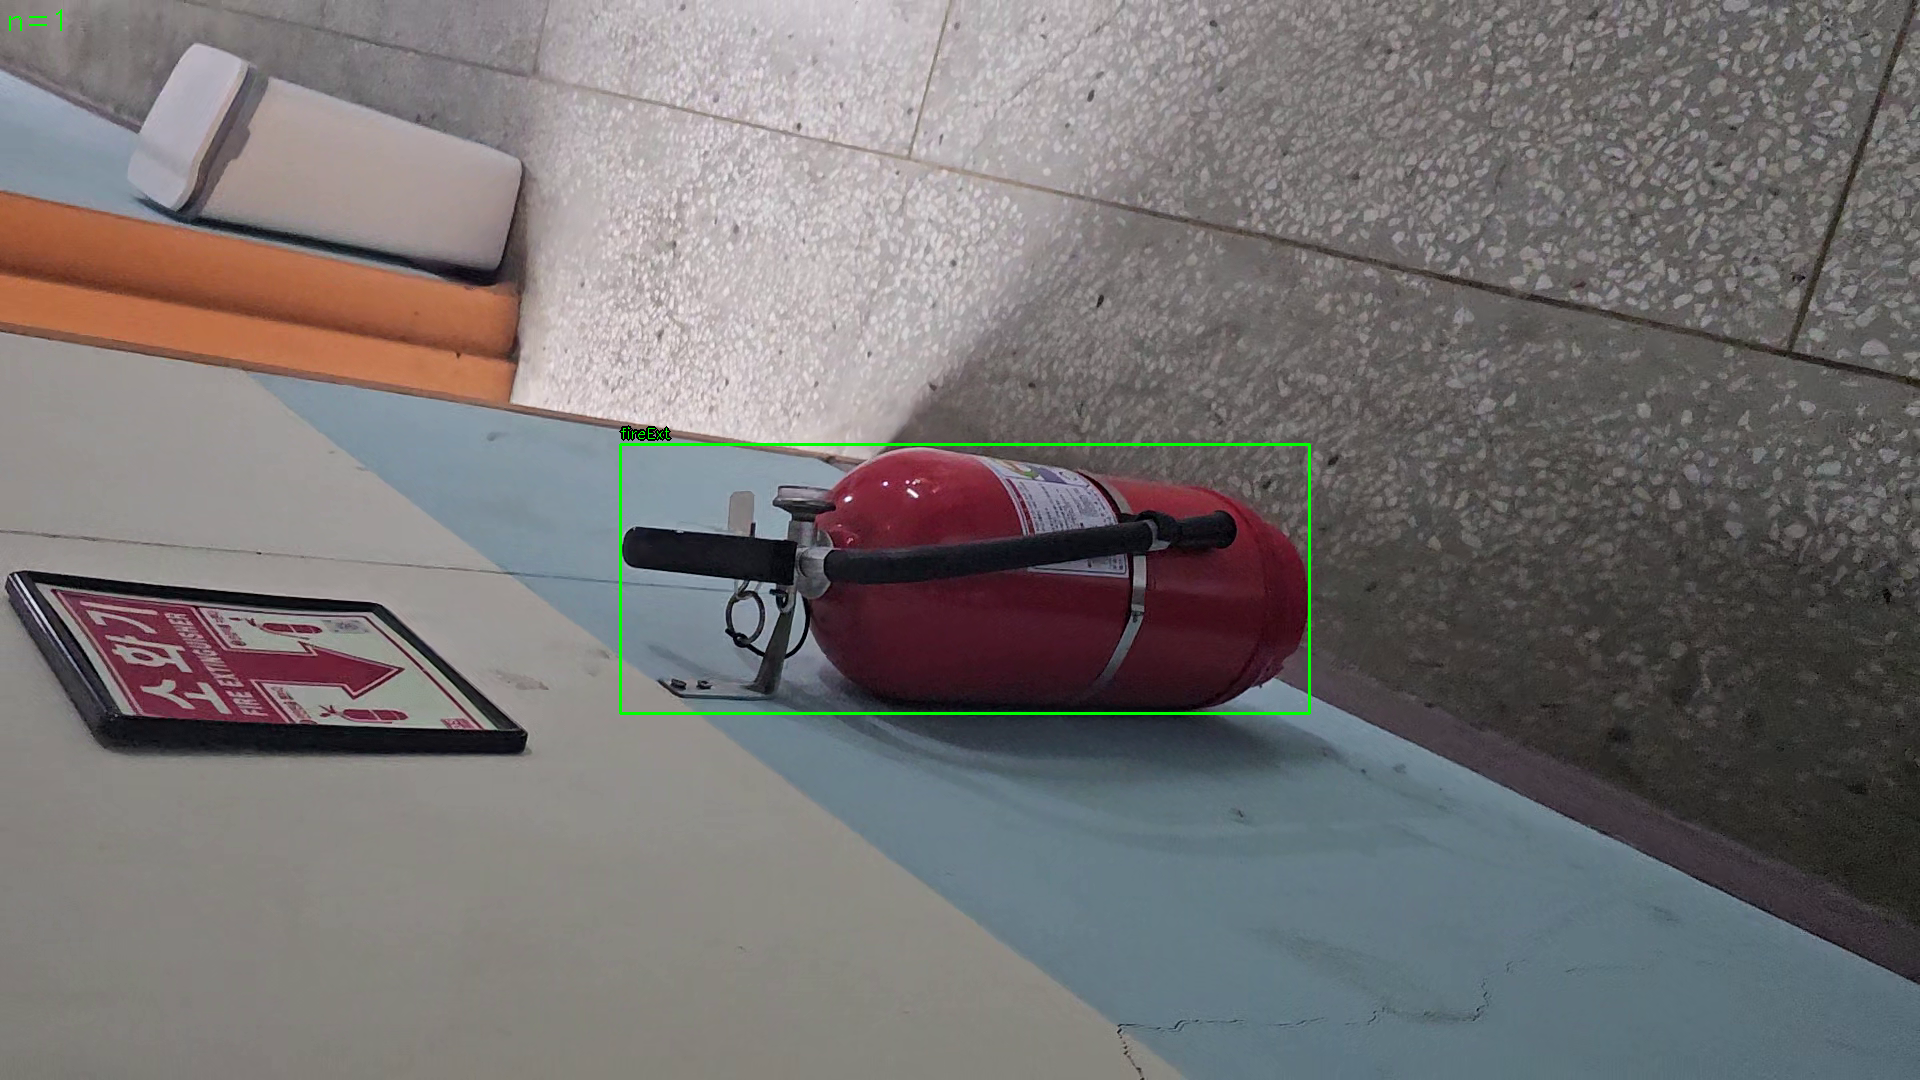lane: (620, 444, 1309, 713)
